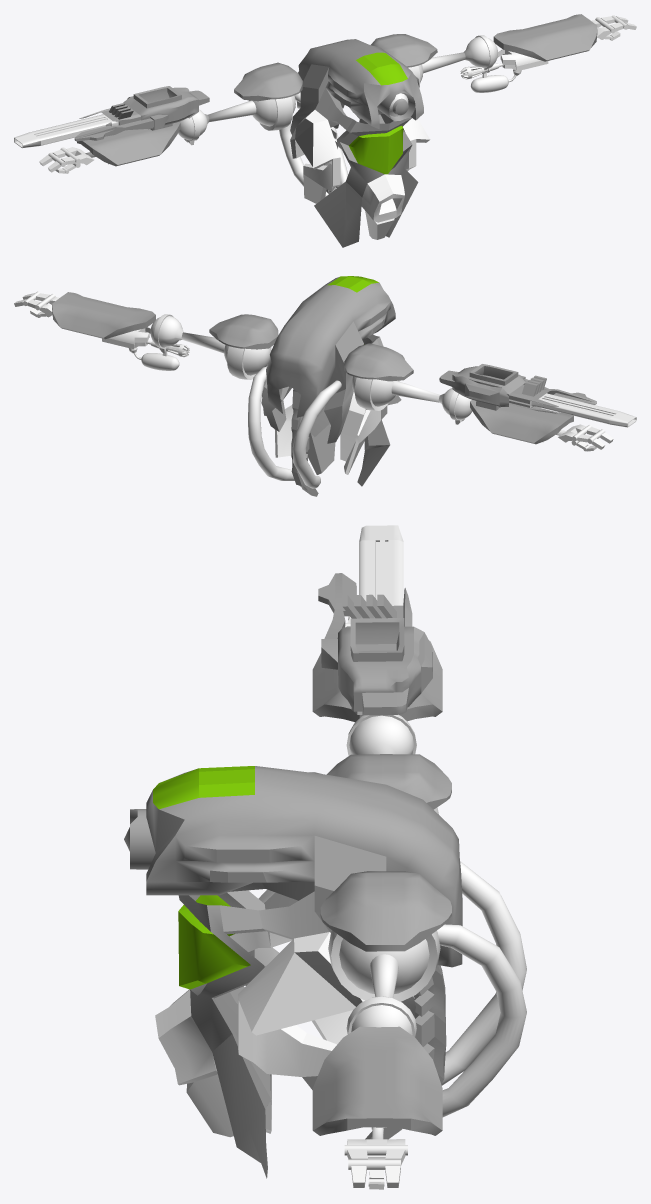
Rendered from mech_V3.fbx.
3 views of the same model, one above another, from view 1: azimuth 30°, elevation 25°; view 2: azimuth 150°, elevation 25°; view 3: azimuth 270°, elevation 25° (orthographic). The views are drawn at different scales.
Visible parts, largest first — view 1: polySurface40; view 2: polySurface40; view 3: polySurface40.
Boxes of the visible parts, x1,y1,x2,y2 form: polySurface40: (14,14,636,247); polySurface40: (14,276,636,496); polySurface40: (124,525,526,1189).
Bounding box in the file's own units: 0.4553 × 0.1359 × 0.13.
